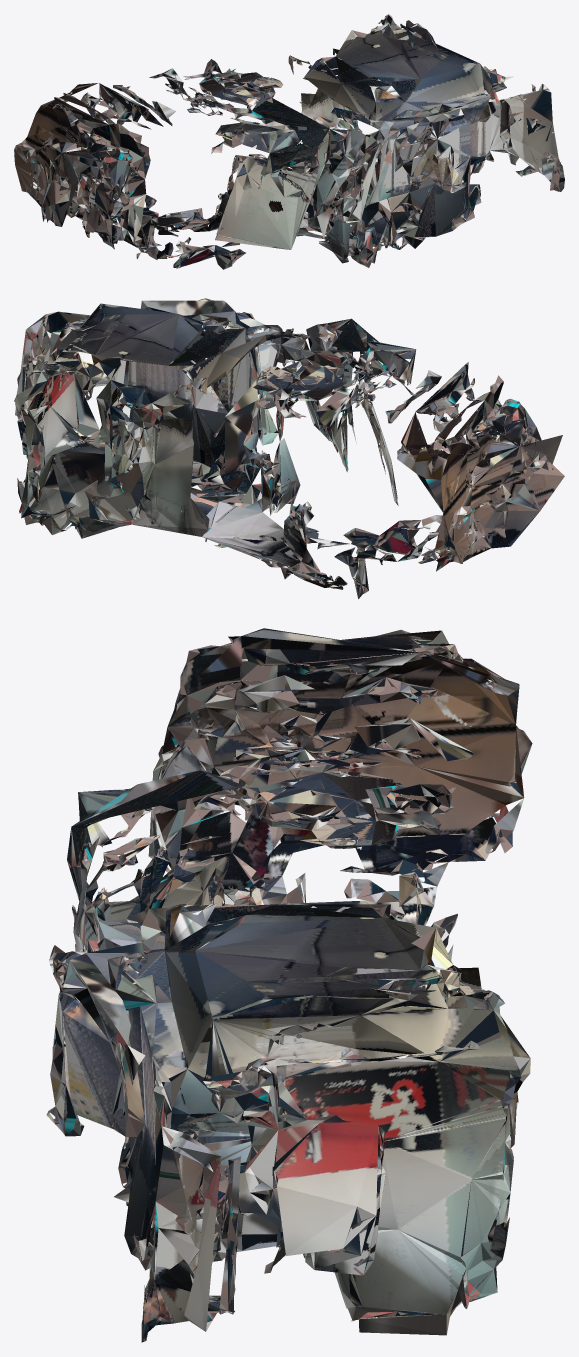
File: cabin3.glb
The picture shows the model from 3 angles, top to bottom: view 1: azimuth 30°, elevation 25°; view 2: azimuth 150°, elevation 25°; view 3: azimuth 270°, elevation 25°; orthographic projection. The views are drawn at different scales.
Size of the model in its own units: 9.57 by 3.57 by 4.07.
Materials: 1 (1 with a texture image).
